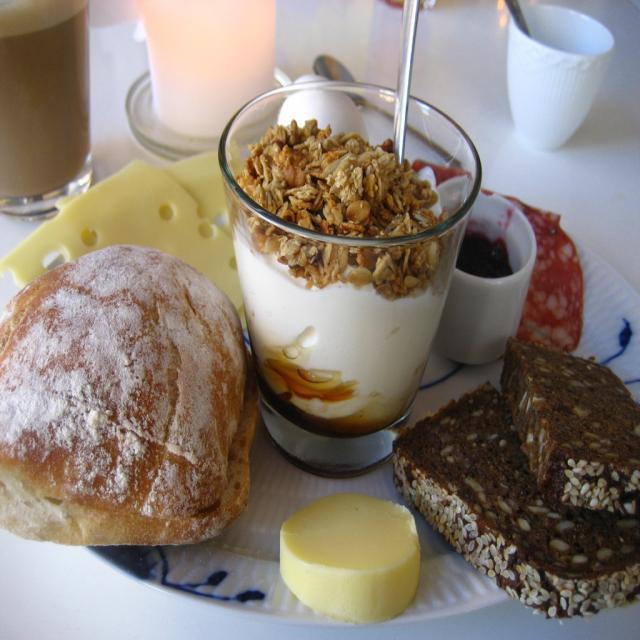Bread: (0, 234, 248, 568)
